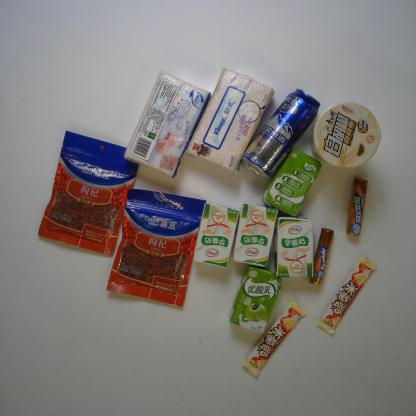Alcohol: (237, 85, 322, 185)
Candy: (307, 226, 335, 287), (344, 177, 370, 239)
Chocolate: (313, 252, 379, 336), (240, 298, 308, 379)
Dried Fruit: (36, 129, 142, 258), (105, 188, 209, 310)
Instant Noodles: (309, 100, 383, 170)
Milk: (260, 146, 325, 218), (227, 262, 283, 336), (192, 202, 242, 270), (232, 201, 280, 269), (271, 214, 316, 280)
Tissue: (183, 63, 278, 179), (122, 67, 213, 180)
